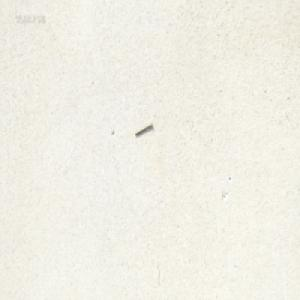Bolt: (134, 121, 152, 136)
